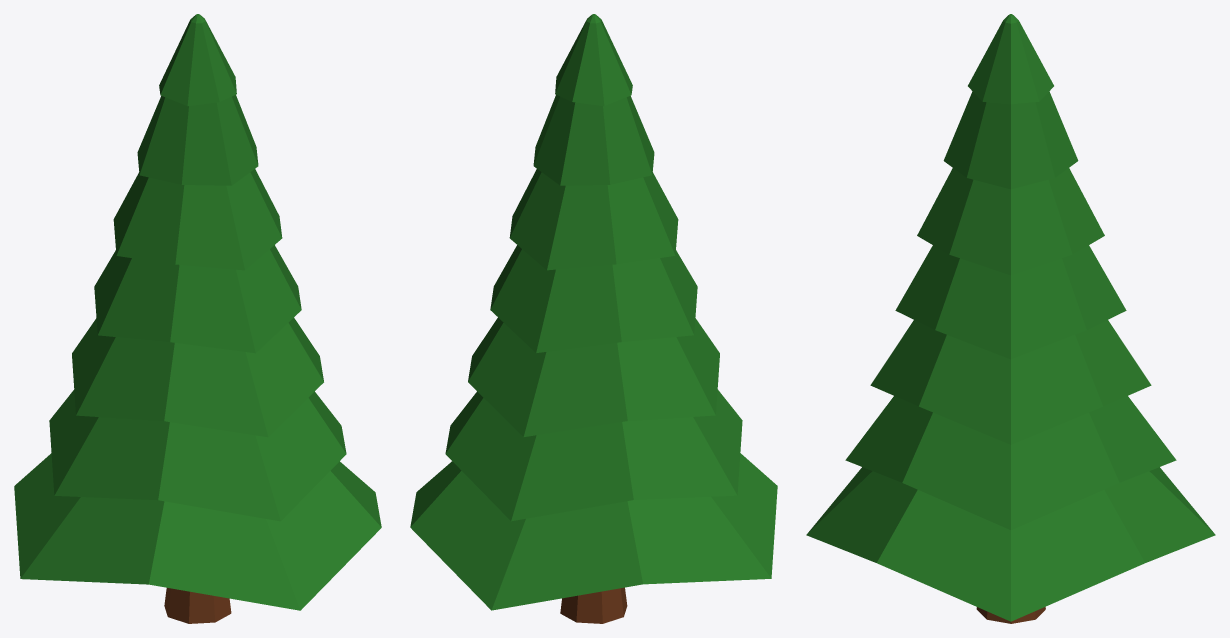
Rendered from Tree.glb.
The picture shows the model from 3 angles, left to right: view 1: azimuth 30°, elevation 25°; view 2: azimuth 150°, elevation 25°; view 3: azimuth 270°, elevation 25°; orthographic projection.
Visible parts, largest first — view 1: Low Poly Tree 5; view 2: Low Poly Tree 5; view 3: Low Poly Tree 5.
Boxes of the visible parts, x1,y1,x2,y2 form: Low Poly Tree 5: (14,14,381,623); Low Poly Tree 5: (410,14,777,623); Low Poly Tree 5: (806,14,1215,623).
Bounding box in the file's own units: 3.04 × 4.86 × 3.04.
